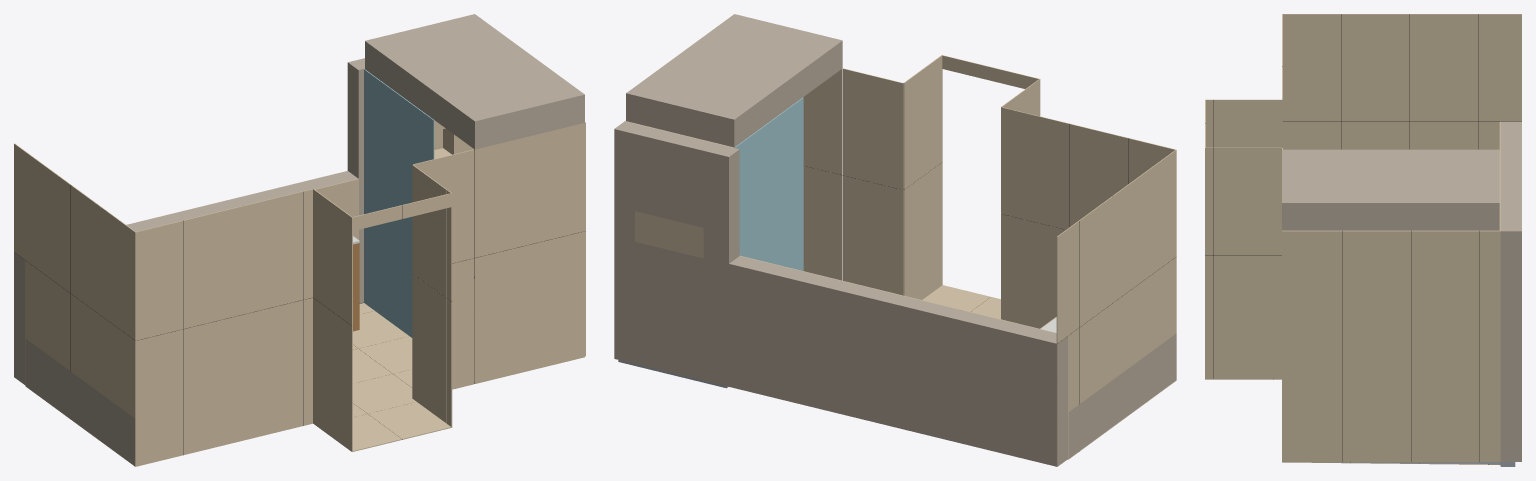
Rendered from bathroom_107.glb.
The picture shows the model from 3 angles, left to right: view 1: azimuth 30°, elevation 25°; view 2: azimuth 150°, elevation 25°; view 3: azimuth 270°, elevation 25°; orthographic projection.
Parts seen in each view (by area): view 1: wall_tile (×33), prewall (×4), screen, floor_tile (×6), vanity; view 2: prewall (×4), wall_tile (×27), screen, floor_tile; view 3: wall_tile (×22), prewall (×3).
Part boxes in pixels (<box>): wall_tile (×33): <box>14,123,584,465</box>; prewall (×4): <box>14,14,584,465</box>; screen: <box>364,69,434,337</box>; floor_tile (×6): <box>317,311,452,451</box>; vanity: <box>353,243,359,331</box>; prewall (×4): <box>614,14,1176,466</box>; wall_tile (×27): <box>635,55,1176,466</box>; screen: <box>734,97,803,270</box>; floor_tile: <box>922,285,990,311</box>; wall_tile (×22): <box>1205,14,1521,461</box>; prewall (×3): <box>1282,121,1521,461</box>.
Bounding box in the file's own units: 4.5 × 2.55 × 2.77.
